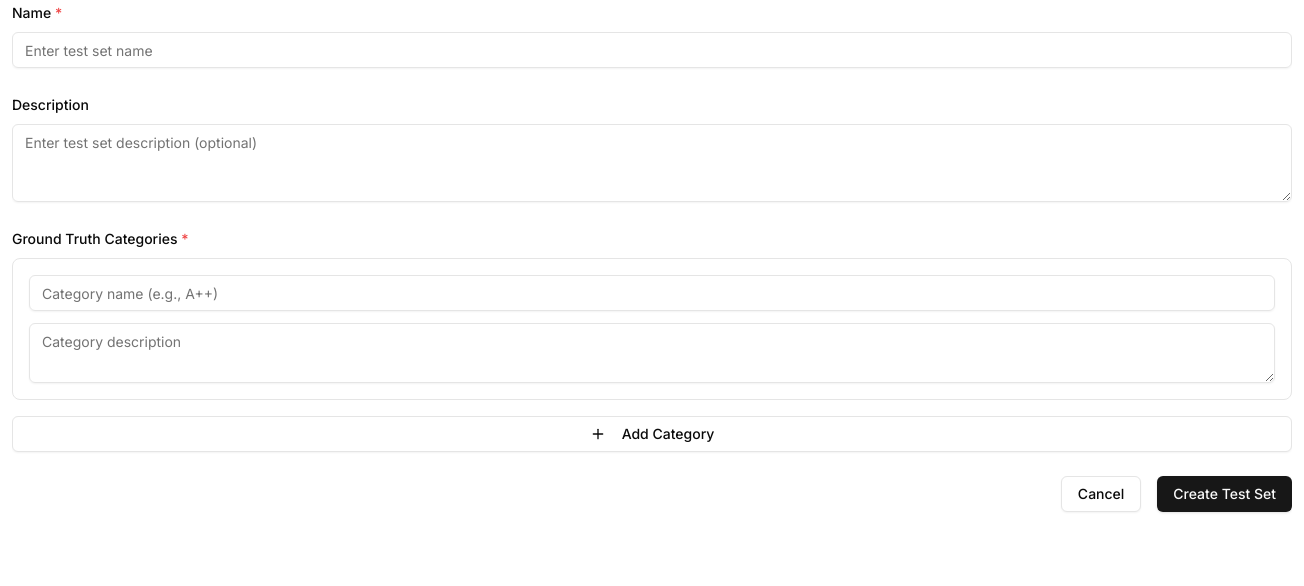
Scenario: TestSetForm › validates required name field
Click the button "Create Test Set".
click(1225, 494)  # box [1157, 476, 1292, 512]
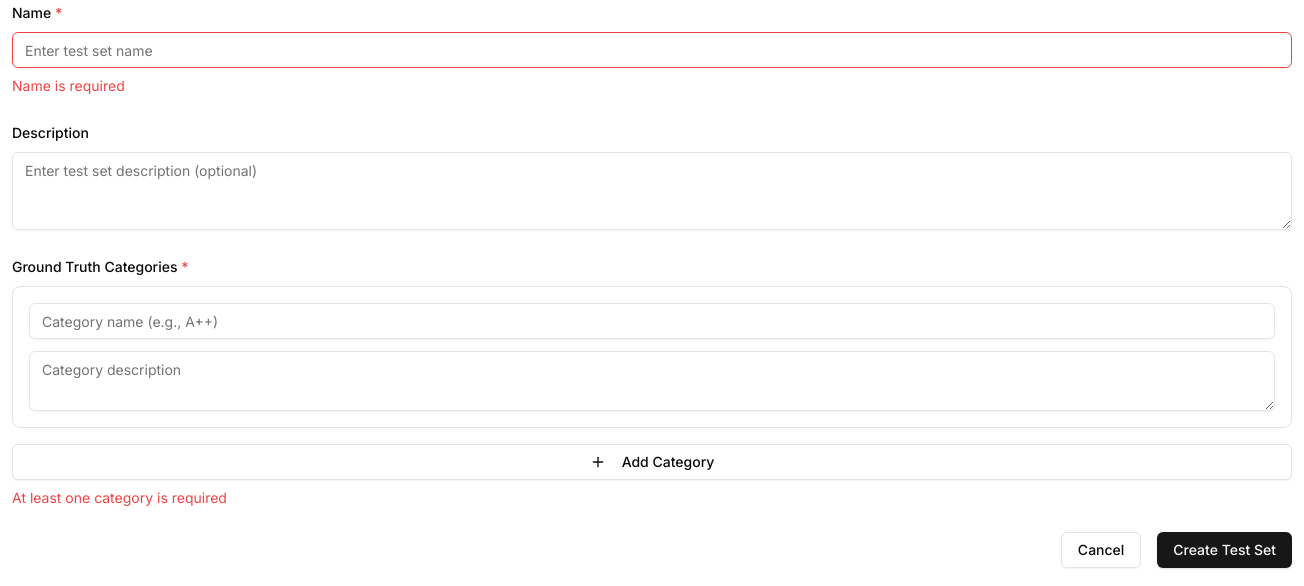
Now the text "Name is required" is shown, box [12, 77, 125, 94]
